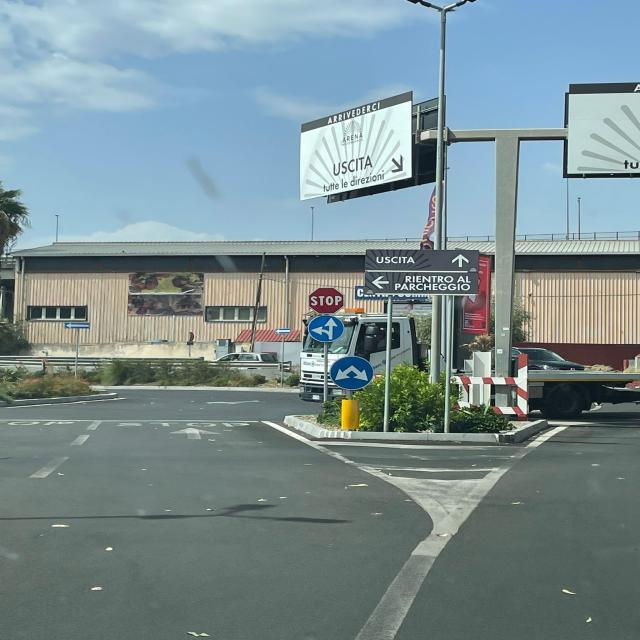forb_overtake_trucks: (308, 287, 344, 314)
